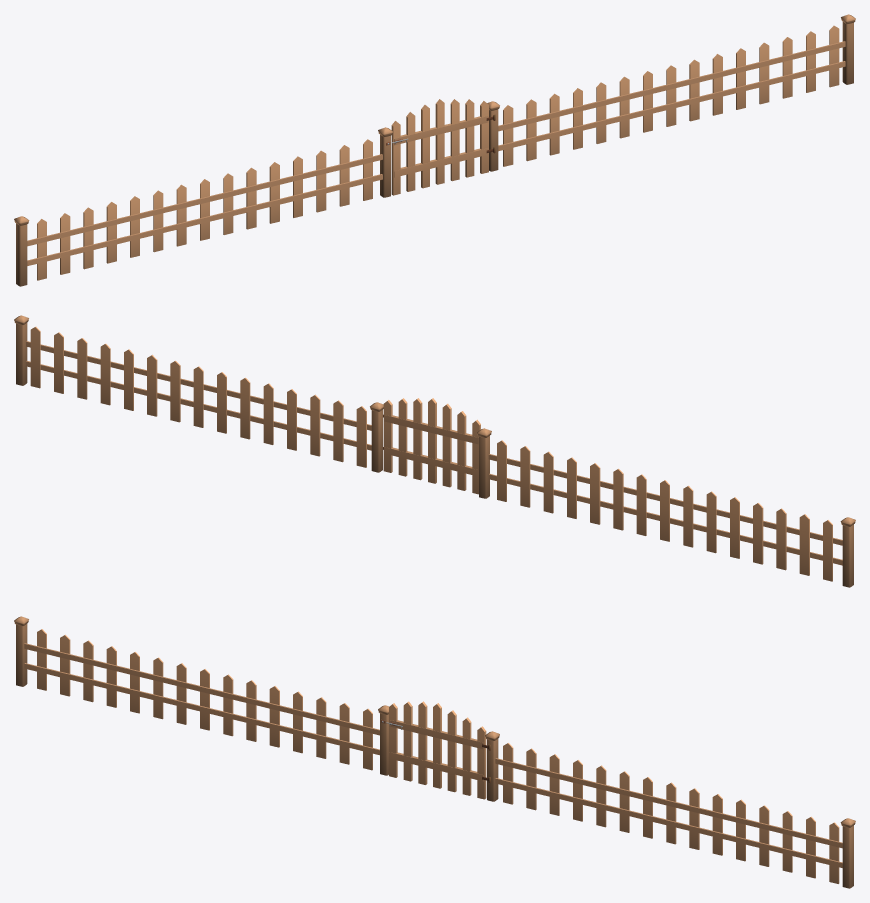
The model's file is KandangAyam_Pagar.fbx.
3 views of the same model, one above another, from view 1: azimuth 30°, elevation 25°; view 2: azimuth 150°, elevation 25°; view 3: azimuth 330°, elevation 25° (orthographic).
Parts seen in each view (by area): view 1: KandangPagar1_LOD0, KandangPagar2_LOD0, GerbangKandang-Utama_LOD0; view 2: KandangPagar1_LOD0, KandangPagar2_LOD0, GerbangKandang-Utama_LOD0; view 3: KandangPagar2_LOD0, KandangPagar1_LOD0, GerbangKandang-Utama_LOD0.
Boxes of the visible parts, x1,y1,x2,y2 form: KandangPagar1_LOD0: (14, 127, 392, 286); KandangPagar2_LOD0: (487, 14, 855, 171); GerbangKandang-Utama_LOD0: (391, 99, 495, 195); KandangPagar1_LOD0: (477, 428, 855, 587); KandangPagar2_LOD0: (14, 315, 383, 472); GerbangKandang-Utama_LOD0: (383, 398, 480, 494); KandangPagar2_LOD0: (485, 731, 855, 888); KandangPagar1_LOD0: (14, 616, 388, 775); GerbangKandang-Utama_LOD0: (386, 701, 490, 799).
Size of what is drawn, in the model's own units: 1956 by 187 by 25.25.
